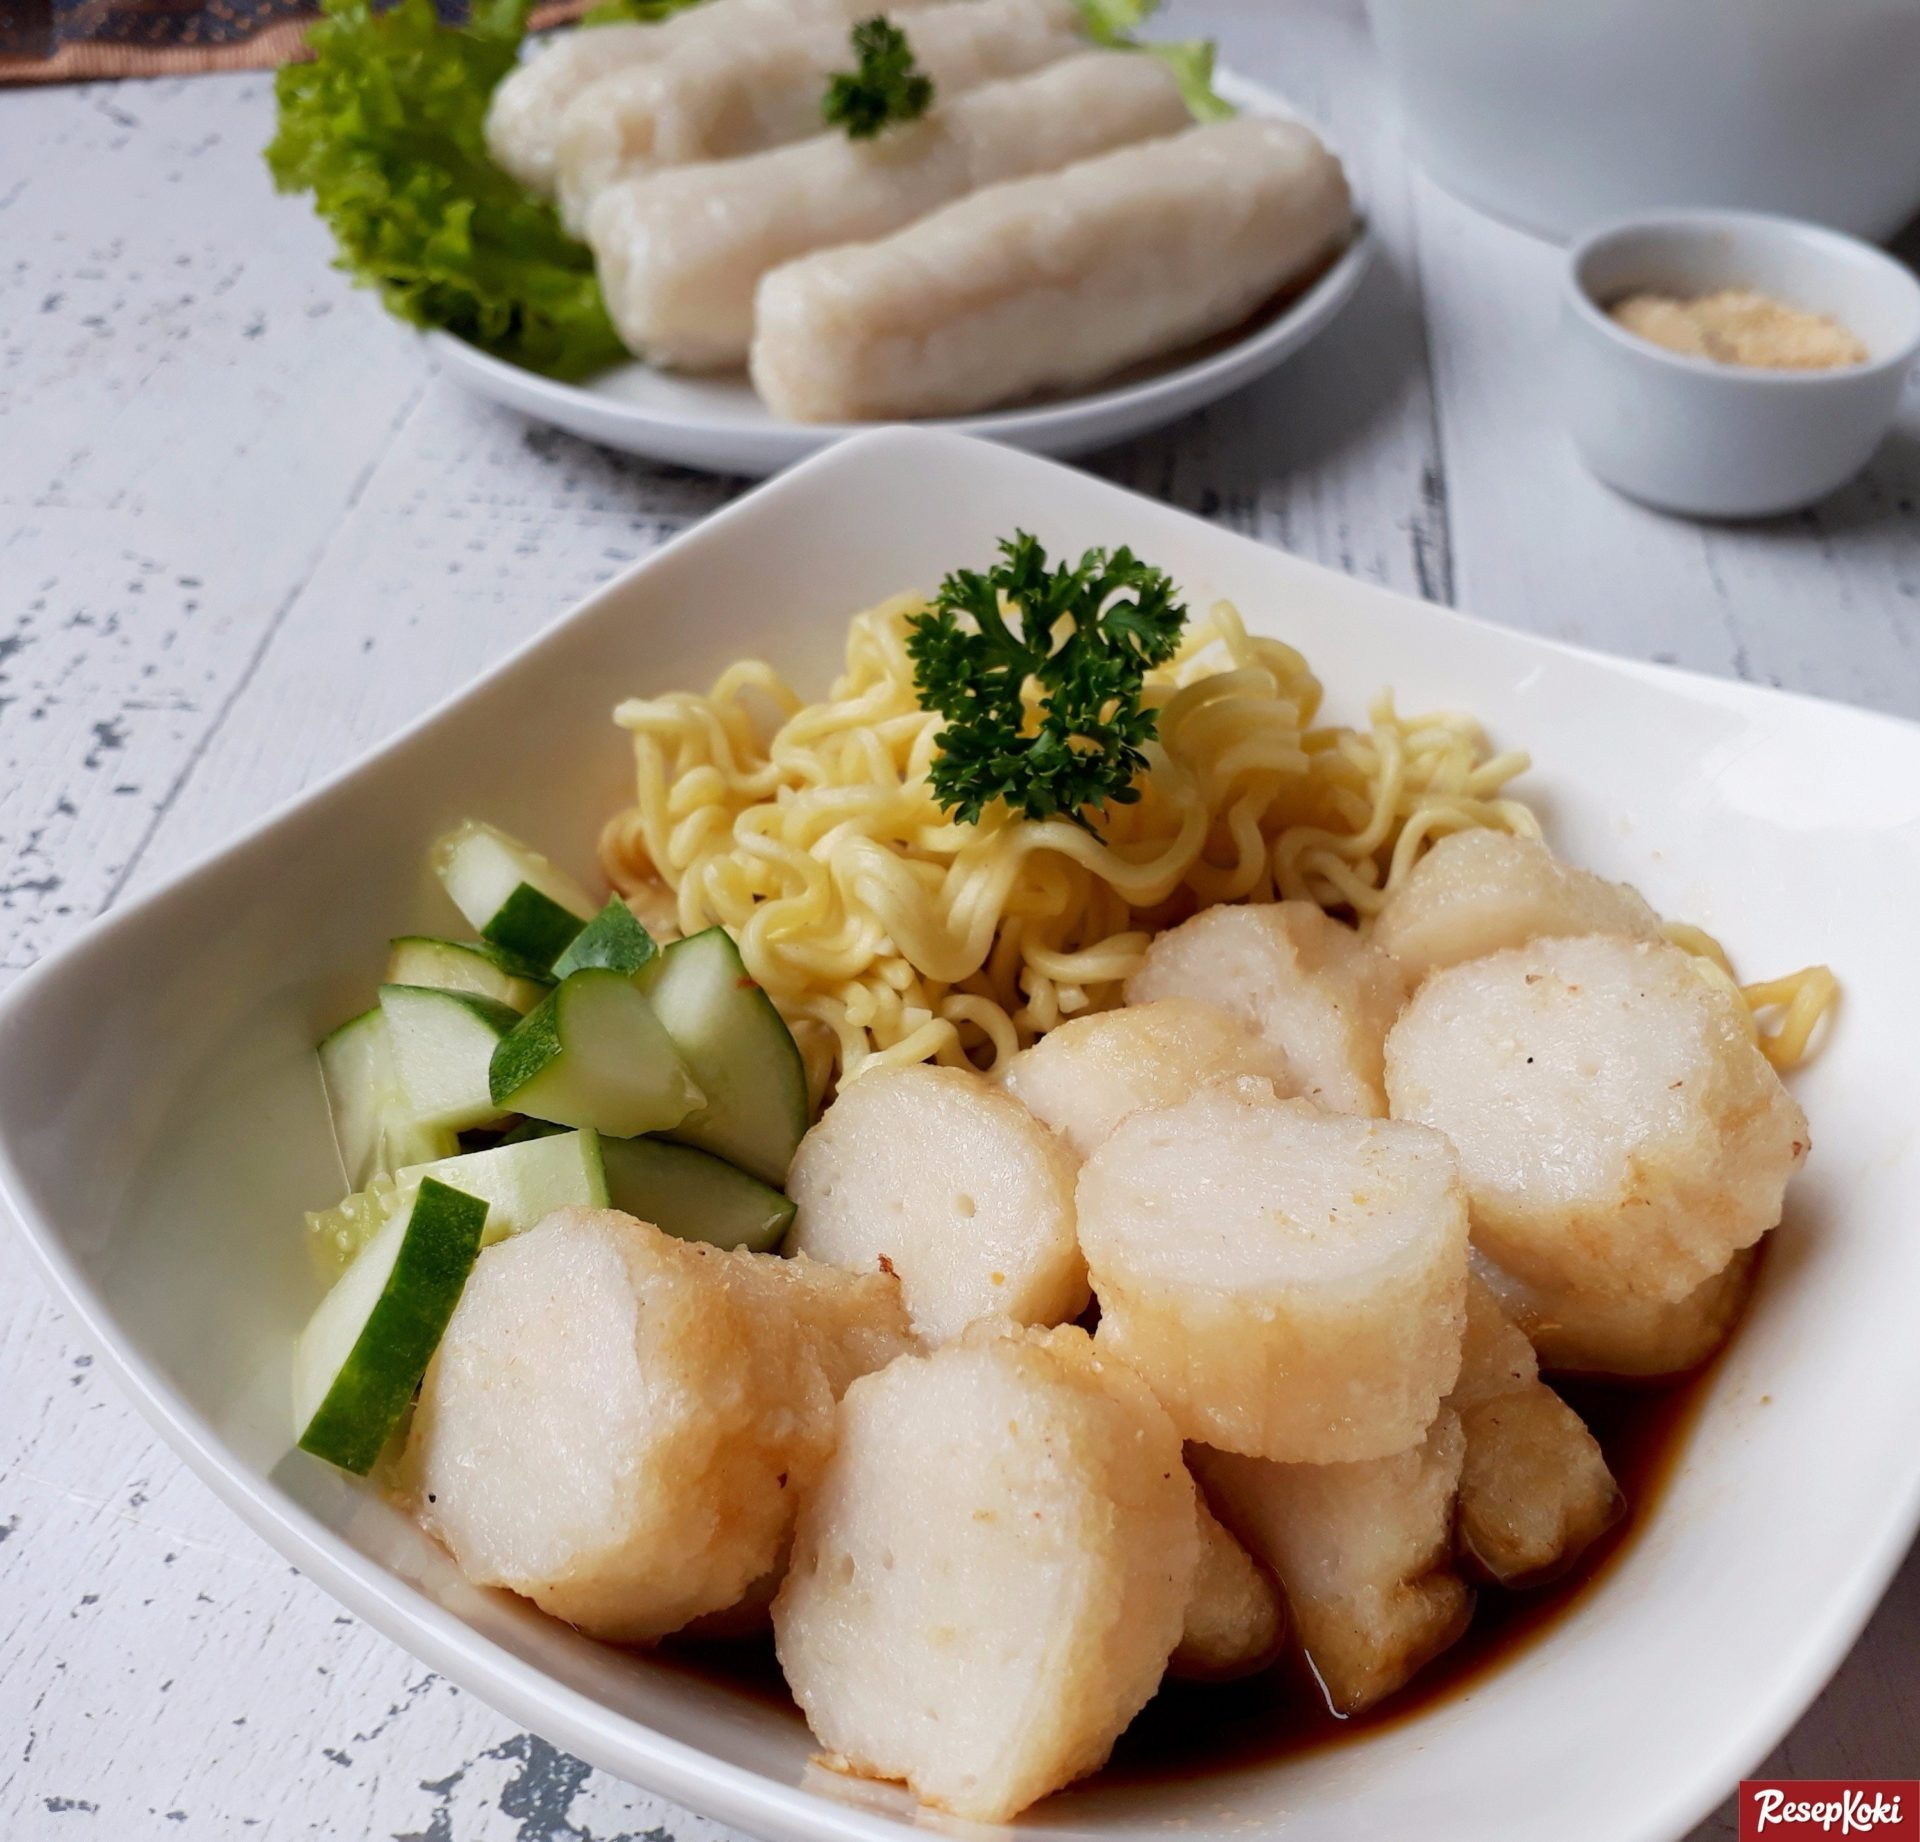pempek: (144, 494, 1838, 1756)
